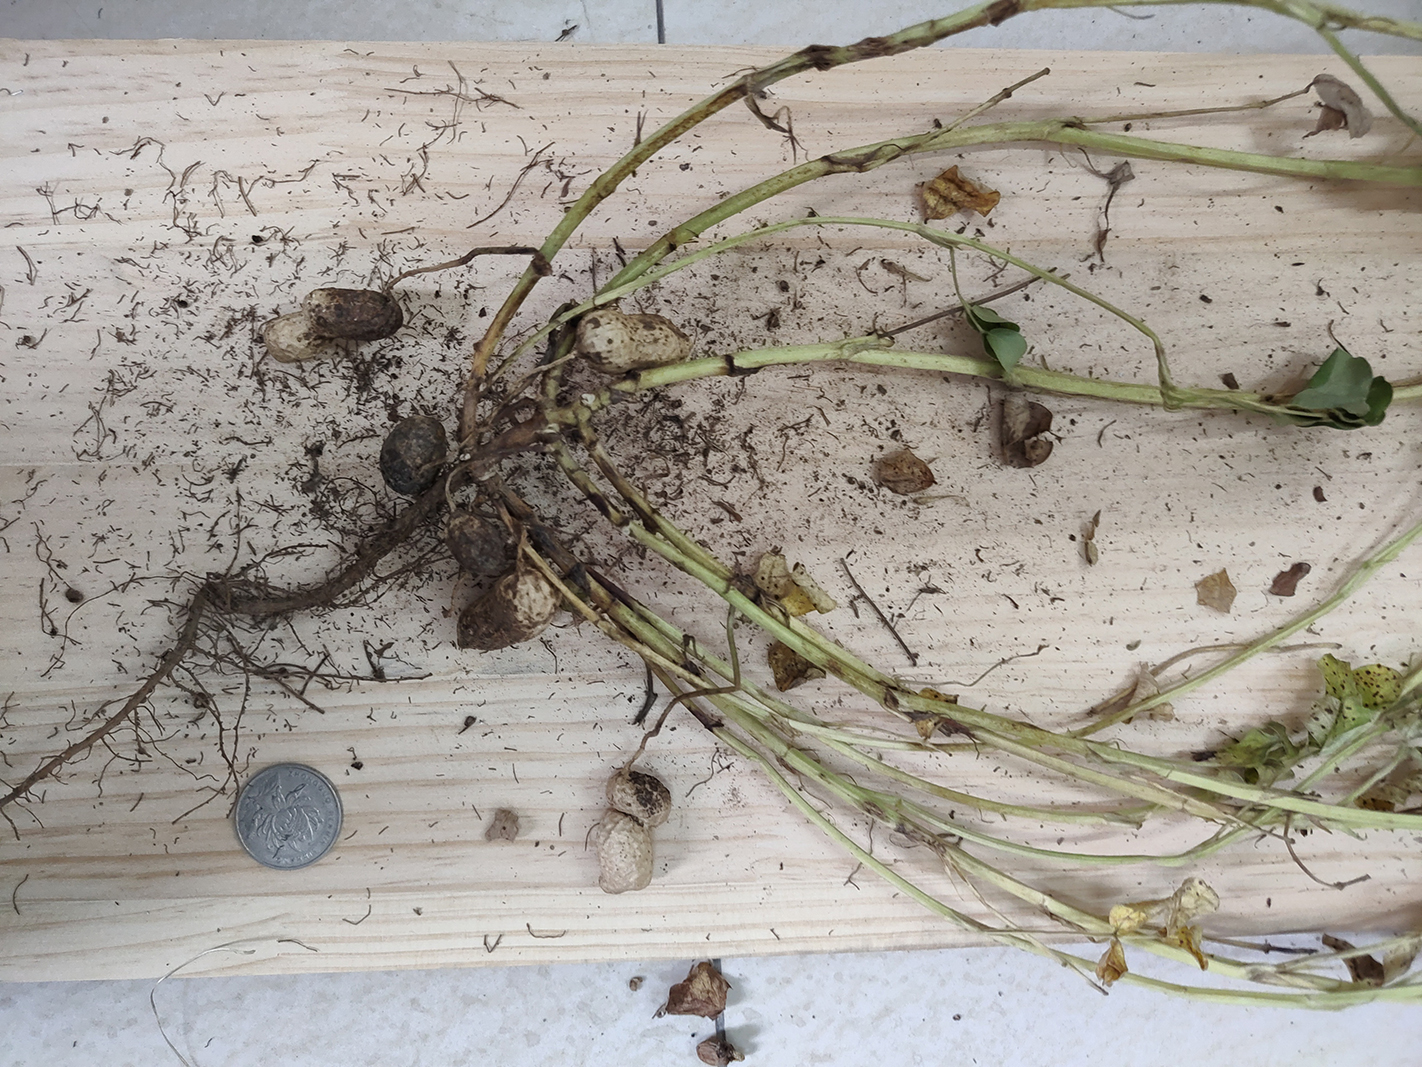h: (262, 288, 403, 361), (591, 770, 672, 893), (577, 307, 693, 373)
l: (455, 570, 556, 652), (378, 414, 446, 495), (450, 514, 506, 578)
